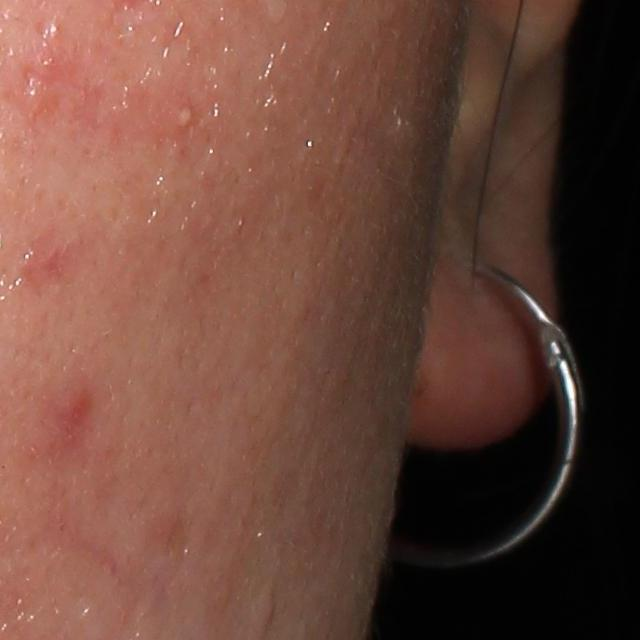papule: (60, 380, 97, 429)
pustule: (169, 98, 201, 131)
